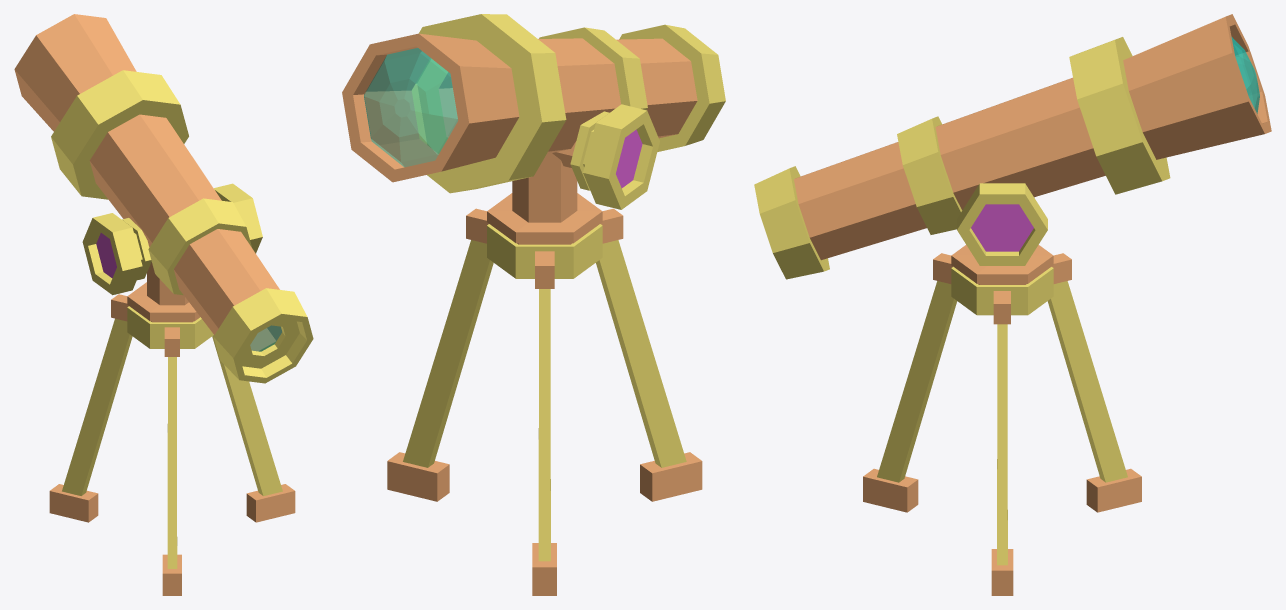
Rendered from 望远镜带支架.fbx.
The picture shows the model from 3 angles, left to right: view 1: azimuth 30°, elevation 25°; view 2: azimuth 150°, elevation 25°; view 3: azimuth 270°, elevation 25°; orthographic projection. The views are drawn at different scales.
Visible parts, largest first — view 1: 圆环, 柱体, 柱体.001, 柱体.002; view 2: 圆环, 柱体, 柱体.001; view 3: 圆环, 柱体, 柱体.002.
Part boxes in pixels (x1,y1,x2,y2): 圆环: (14, 14, 313, 383); 柱体: (49, 262, 295, 595); 柱体.001: (82, 213, 151, 295); 柱体.002: (214, 183, 262, 253); 圆环: (342, 14, 725, 193); 柱体: (387, 153, 702, 595); 柱体.001: (552, 104, 659, 209); 圆环: (754, 14, 1271, 279); 柱体: (863, 245, 1141, 595); 柱体.002: (957, 183, 1047, 265).
Size of the model in its own units: 1001 by 2304 by 2103.
